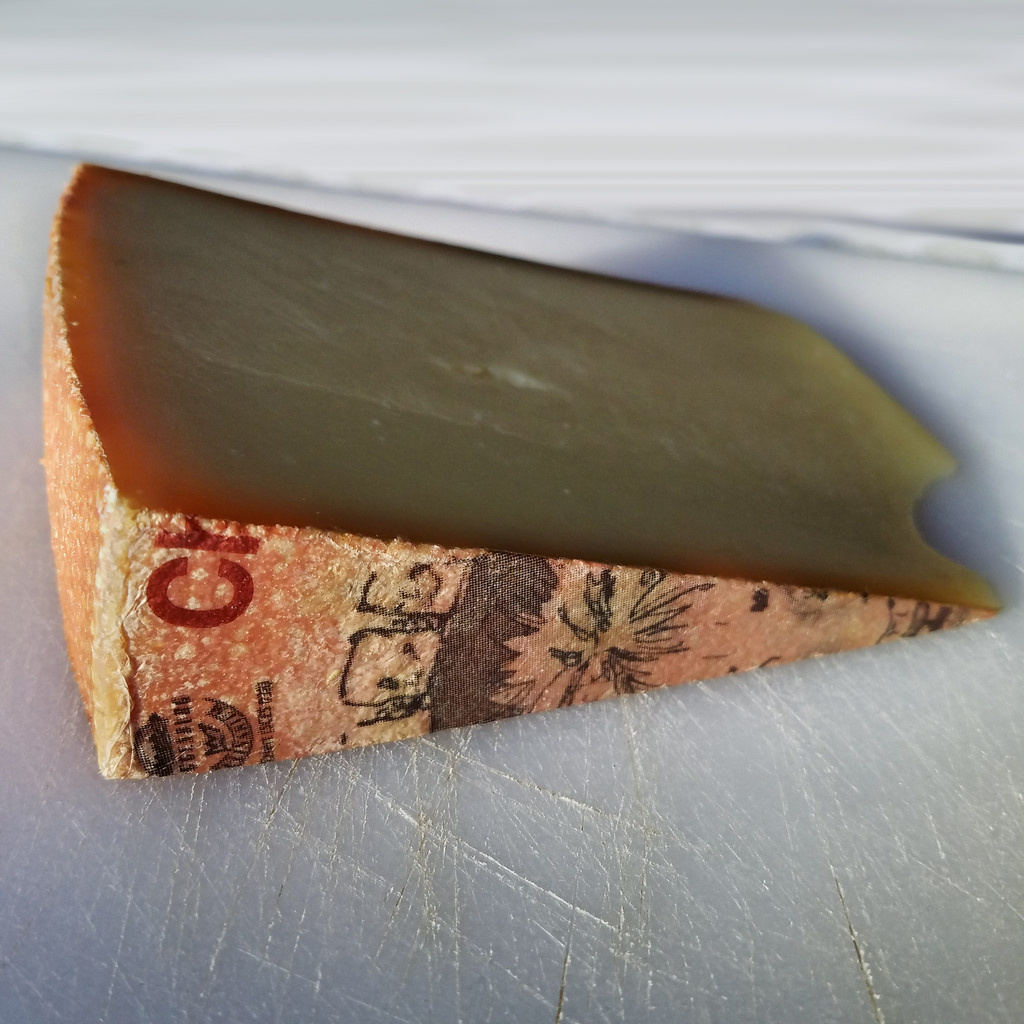slice of bread: (117, 214, 717, 468)
